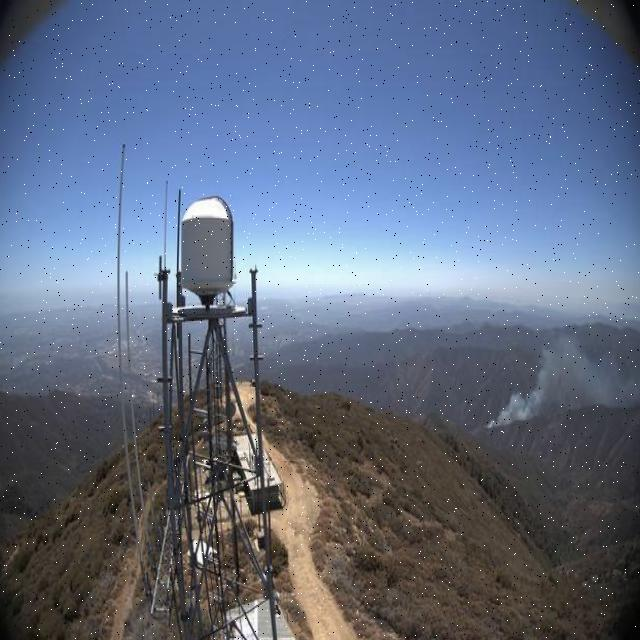smoke: (484, 332, 622, 433)
